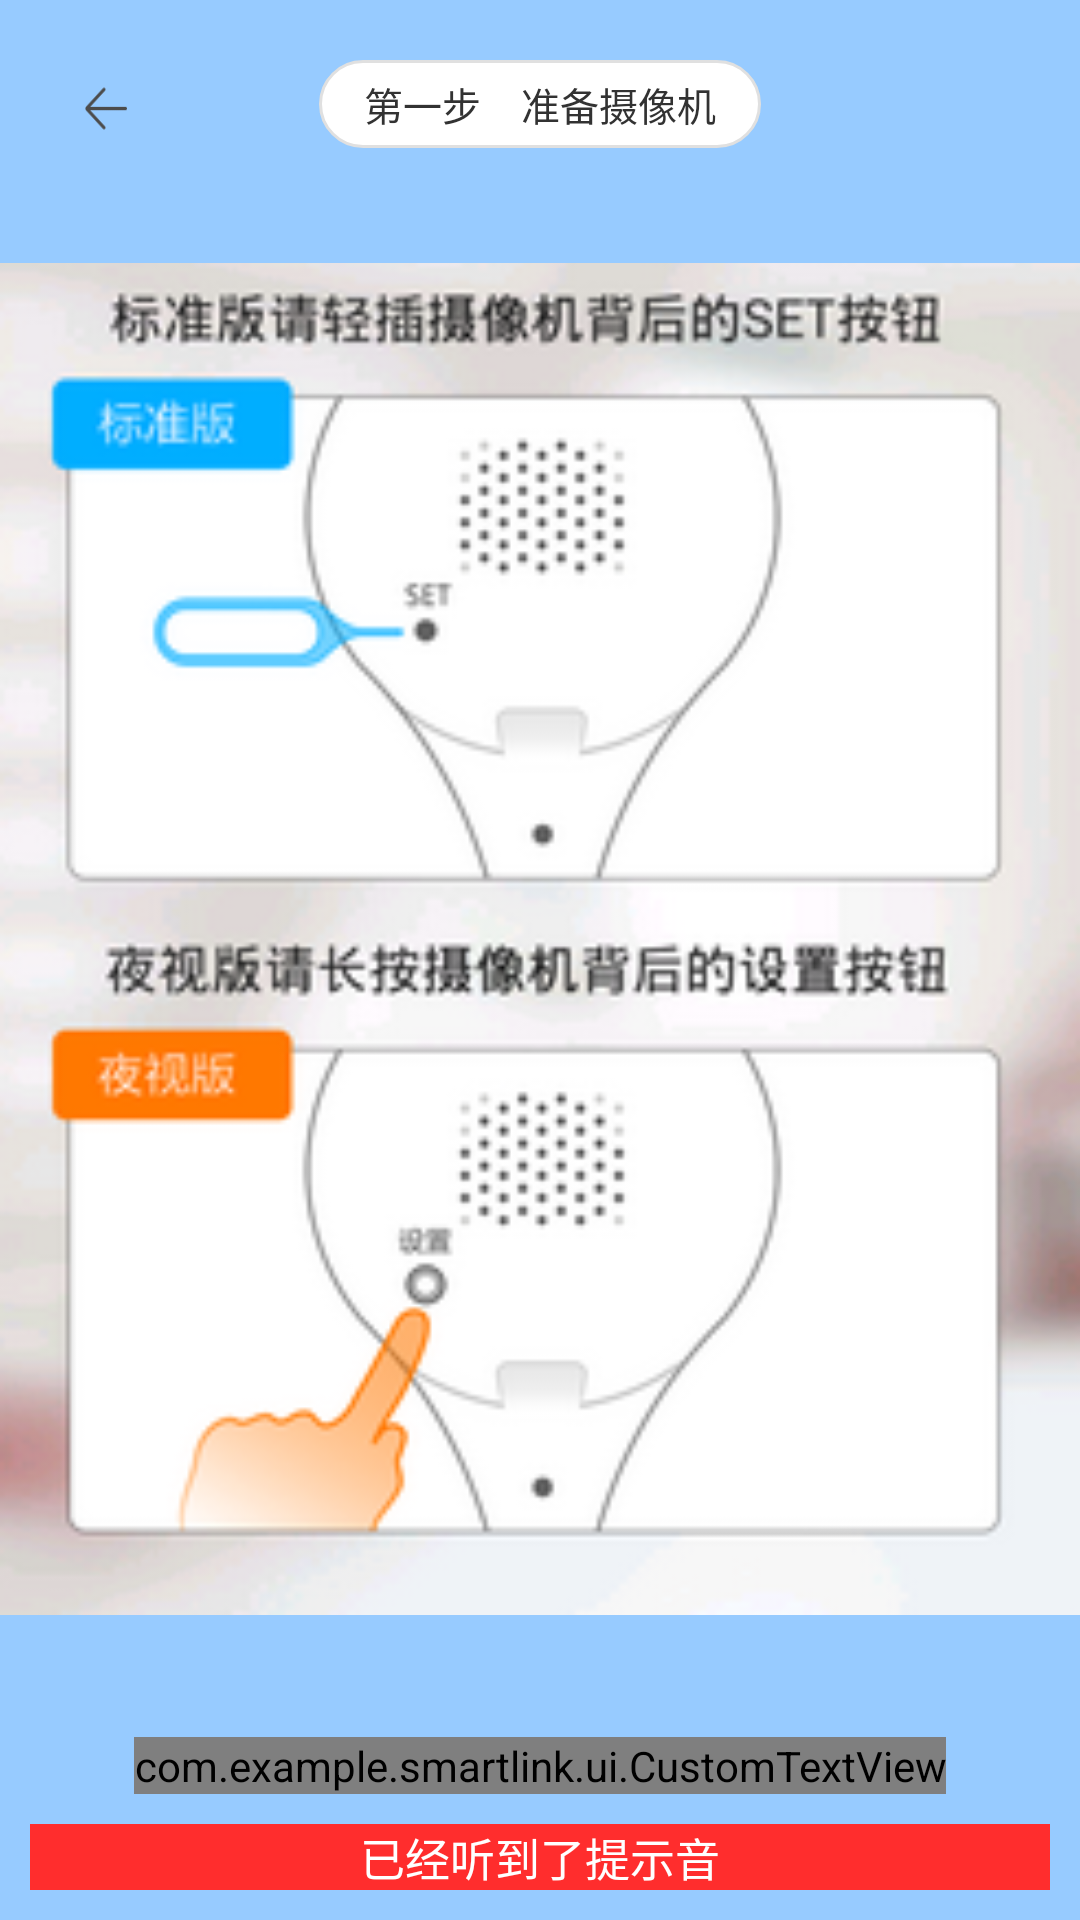

Named icons in this screenshot (1080x1920) and their centers, [x,y]:
title back: [106,108]
